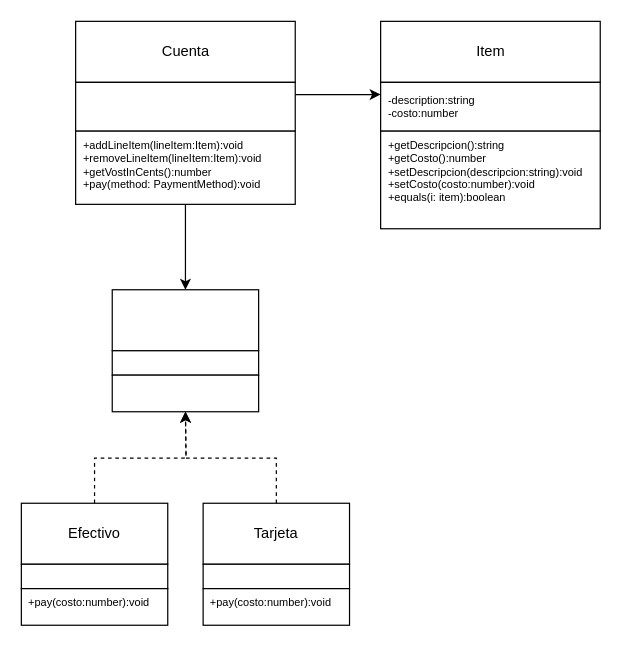
This 622x647 diagram has some shape labels left out. Each missing label, with the box of its shape:
-lineItems: Item[] = []: (74, 81, 295, 131)
pay(cost:number):void: (111, 374, 259, 412)
PaymentMethod: (111, 289, 259, 351)
